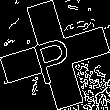P_N: (30, 25, 80, 85)
